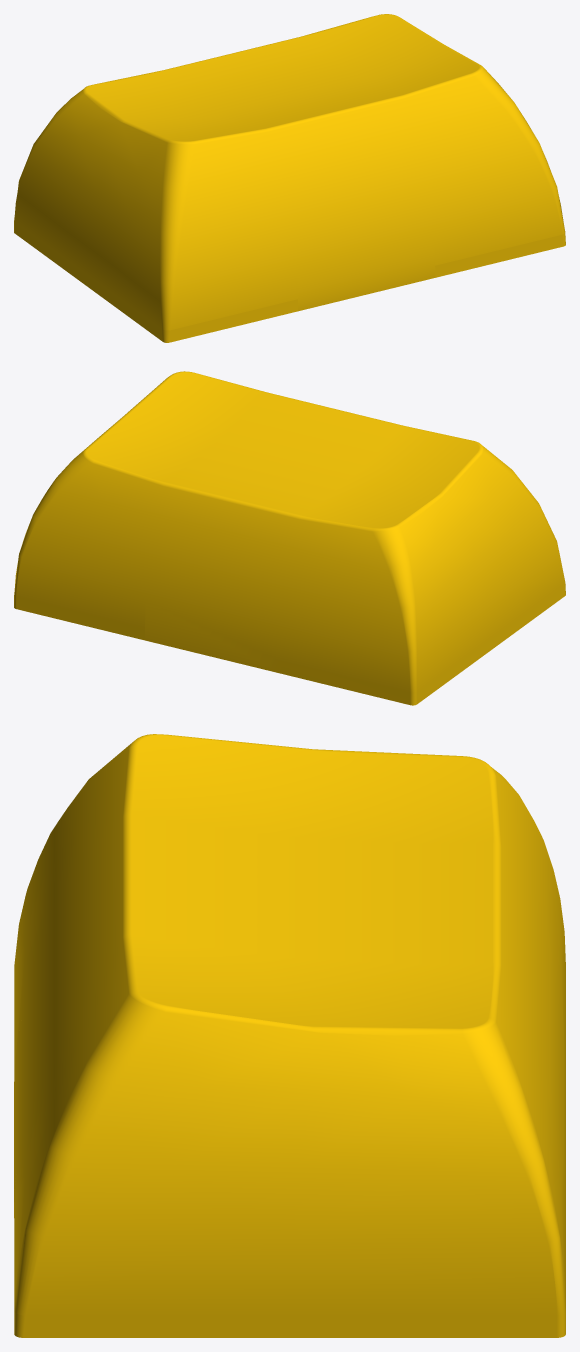
Rendered from KAT_1_5u_r5.glb.
3 views of the same model, one above another, from view 1: azimuth 30°, elevation 25°; view 2: azimuth 150°, elevation 25°; view 3: azimuth 270°, elevation 25° (orthographic). The views are drawn at different scales.
Visible parts, largest first — view 1: Object.082; view 2: Object.082; view 3: Object.082.
Part boxes in pixels (box(x1,y1,x2,y2)): Object.082: box(14, 14, 565, 342); Object.082: box(14, 371, 565, 705); Object.082: box(14, 734, 565, 1337).
Bounding box in the file's own units: 27.6 × 10.68 × 18.21.
